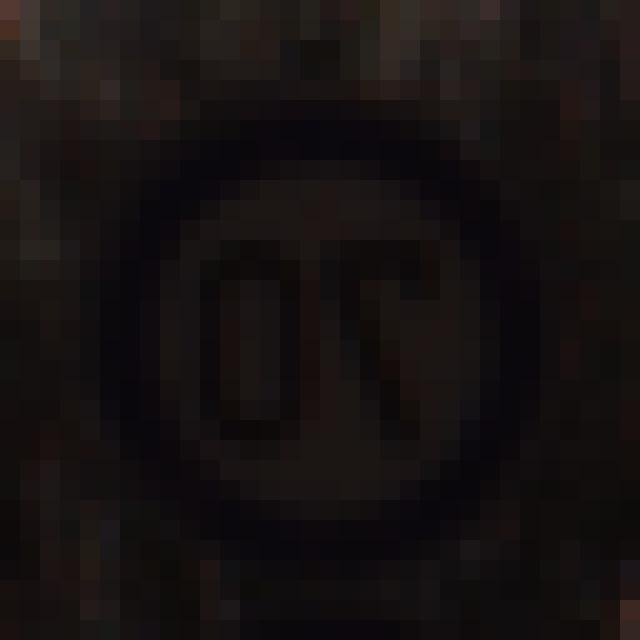SPEED LIMIT 70: (92, 128, 550, 526)
